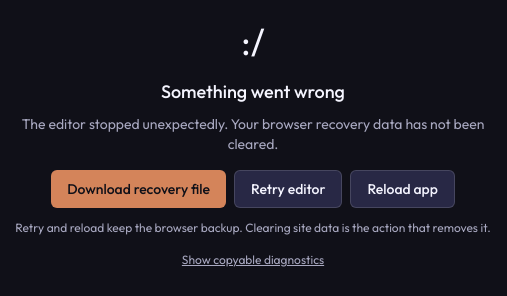
Scenario: ErrorBoundary › keeps recovery available after a render crash
Expected: the heading "Something went wrong" is shown, x1=161 y1=80 x2=345 y2=103
Click the button "Download recovery file": {"x": 139, "y": 189} x1=51 y1=170 x2=226 y2=208
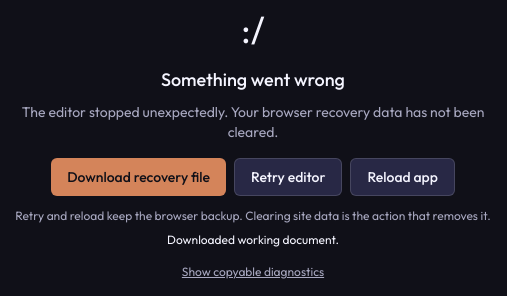
Expected: the text "Downloaded working document." is shown, x1=167 y1=232 x2=339 y2=247
